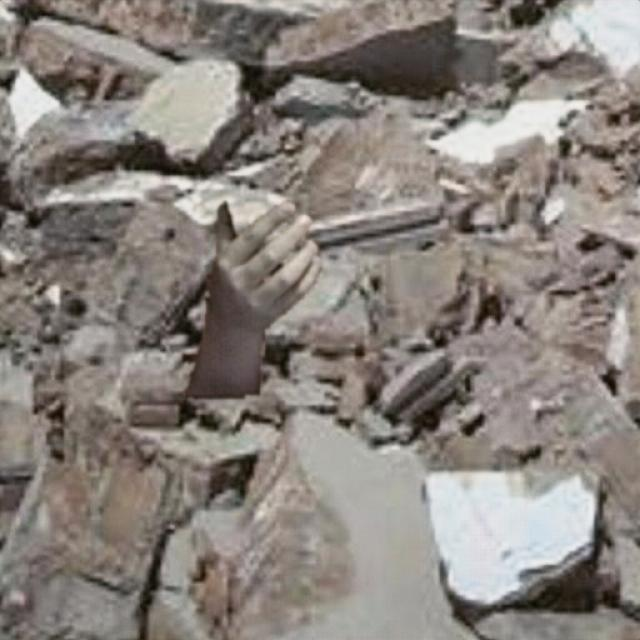Person in Rubble: (182, 200, 320, 398)
